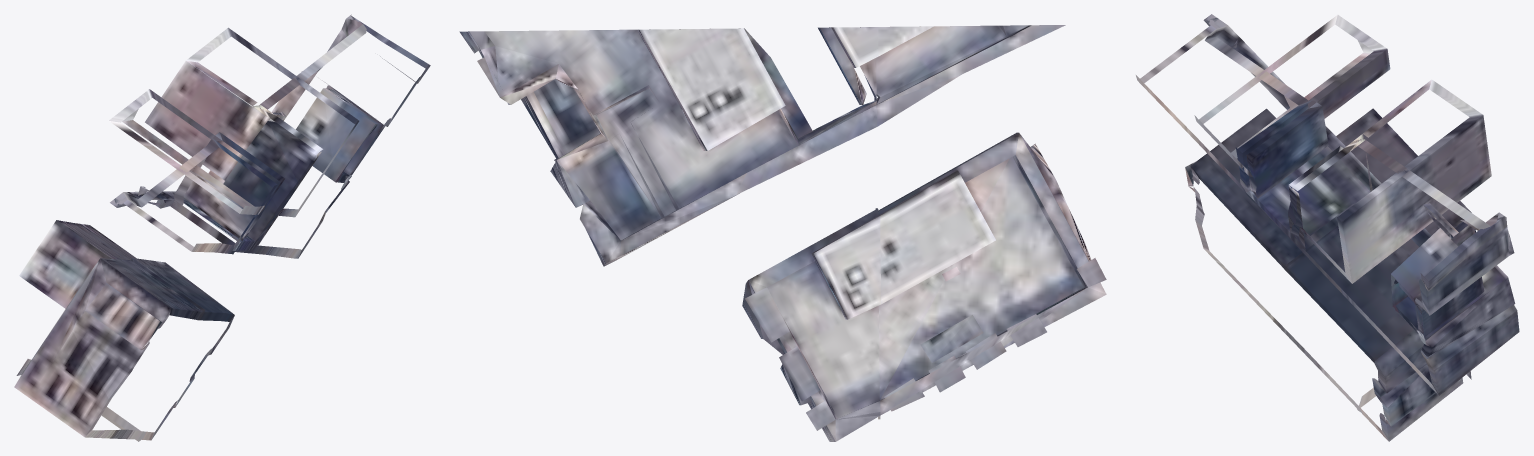
3 renders of one model, left to right at view 1: azimuth 30°, elevation 25°; view 2: azimuth 150°, elevation 25°; view 3: azimuth 270°, elevation 25°, orthographic. The views are drawn at different scales.
Bounding box in the file's own units: 54.45 × 37.94 × 33.71.
Materials: 1 (1 with a texture image).
